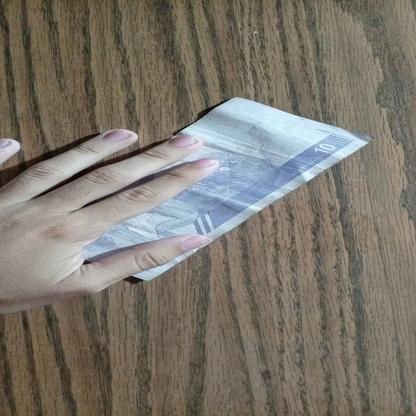ten-back-vef: (66, 97, 374, 282)
